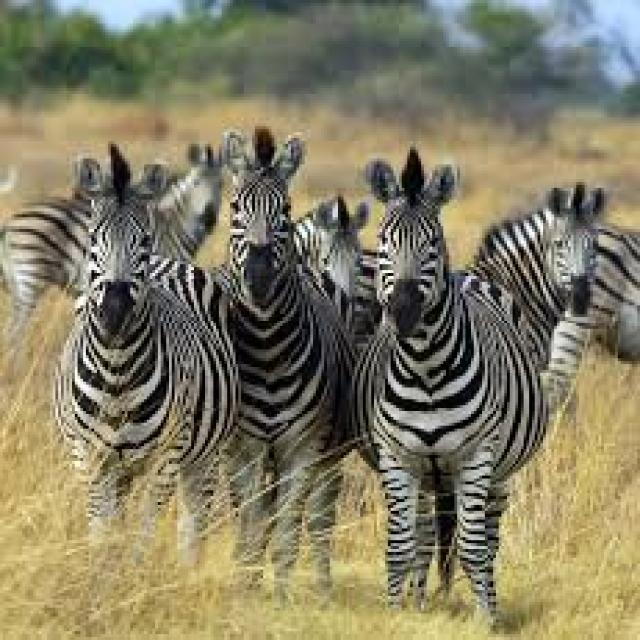Zebra: (354, 148, 548, 606), (56, 167, 240, 554), (225, 128, 342, 578)
